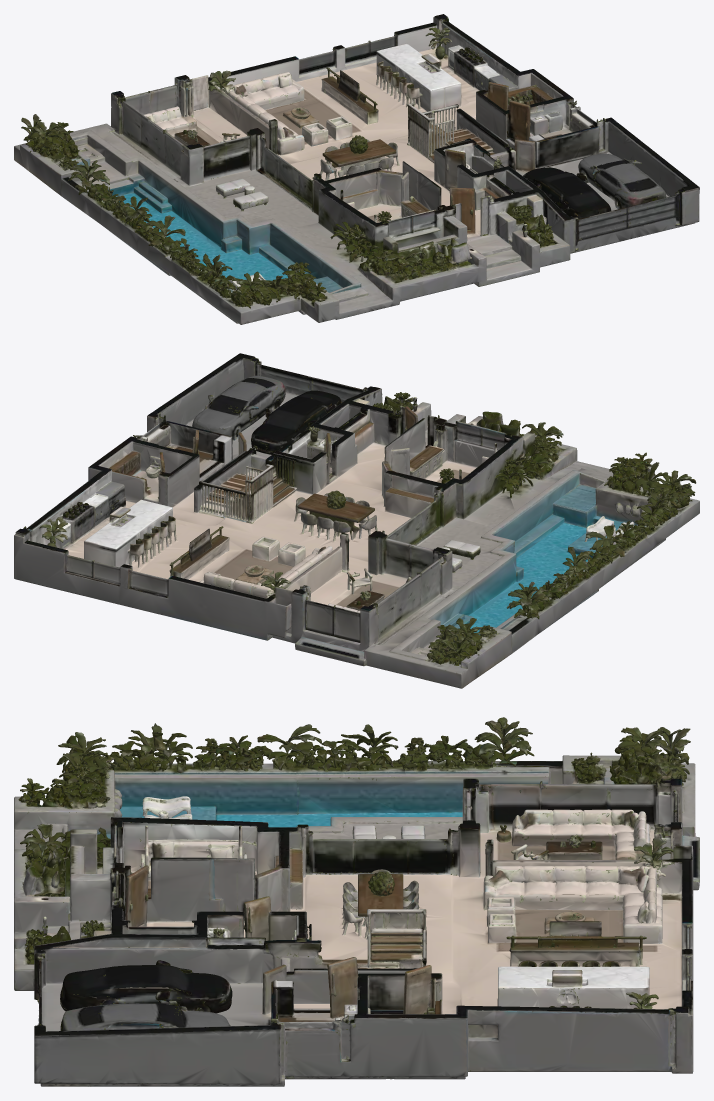
Rendered from villa-floor-plan.glb.
The picture shows the model from 3 angles, top to bottom: view 1: azimuth 30°, elevation 25°; view 2: azimuth 150°, elevation 25°; view 3: azimuth 270°, elevation 25°; orthographic projection. The views are drawn at different scales.
Visible parts, largest first — view 1: mesh_node; view 2: mesh_node; view 3: mesh_node.
Part boxes in pixels (x1,y1,x2,y2): mesh_node: [14, 14, 699, 324]; mesh_node: [14, 353, 699, 688]; mesh_node: [14, 717, 699, 1086].
Size of the model in its own units: 1.9 by 0.2895 by 1.76.
1 material, 1 textured.
